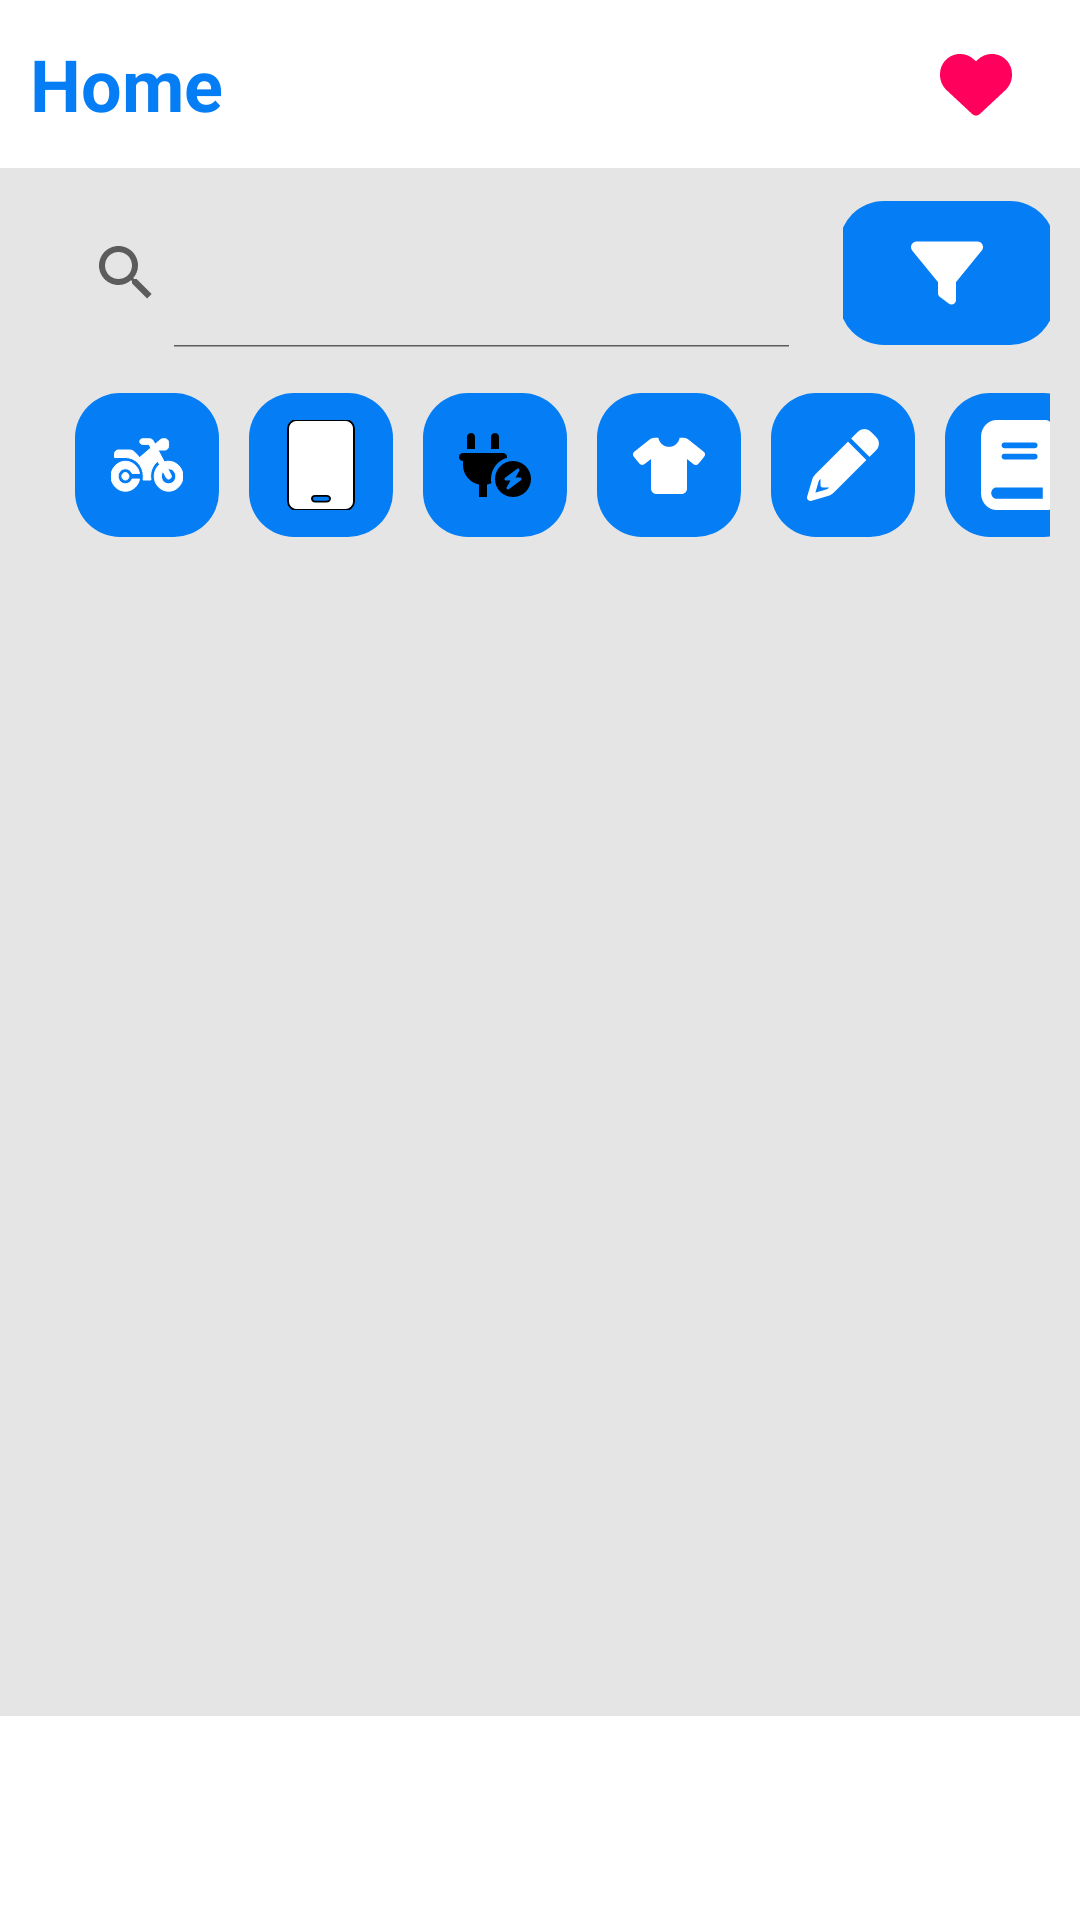

Point at icon controls on the screen. Image size 1080 × 1920, points as [x,y].
bikes: [147,465]
books: [1015,465]
electronics: [495,465]
fashion: [669,465]
filter: [946,273]
heart: [976,85]
mobiles: [321,465]
